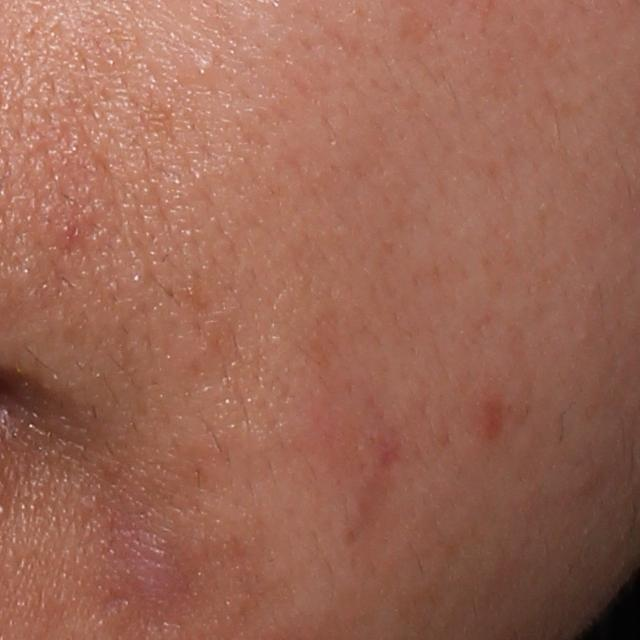atrophic_scar: (98, 592, 129, 620)
papule: (122, 530, 181, 609)
